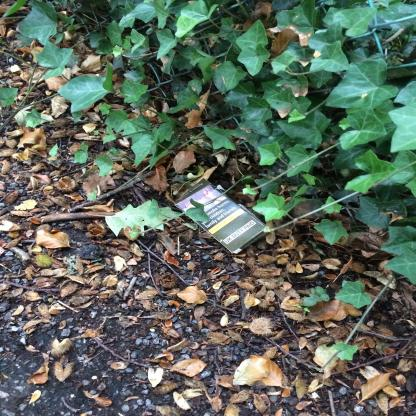trash: (172, 177, 274, 257)
